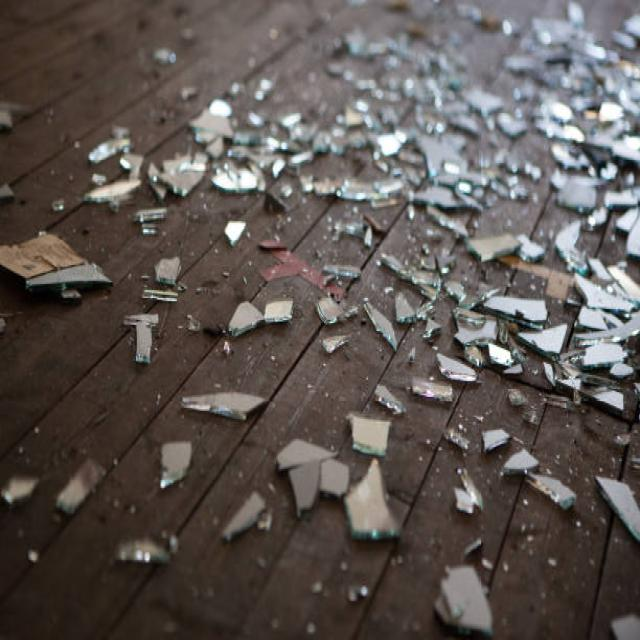PecahanKaca: (354, 1, 636, 417)
